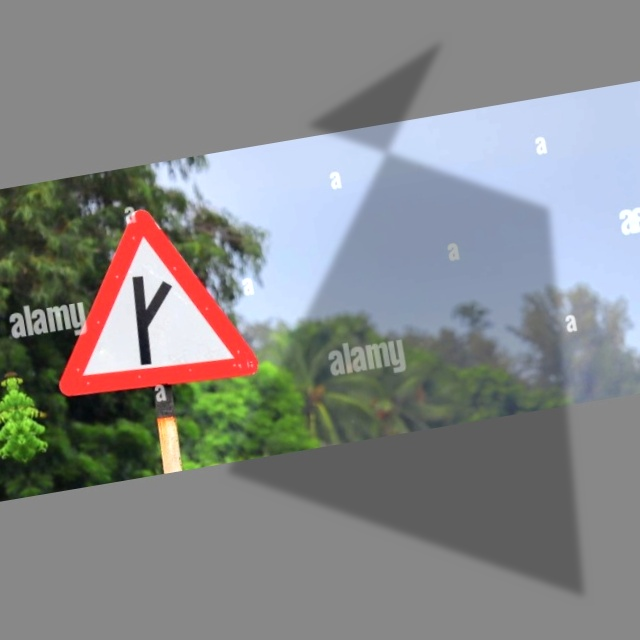Y_Intersection: (40, 189, 256, 408)
